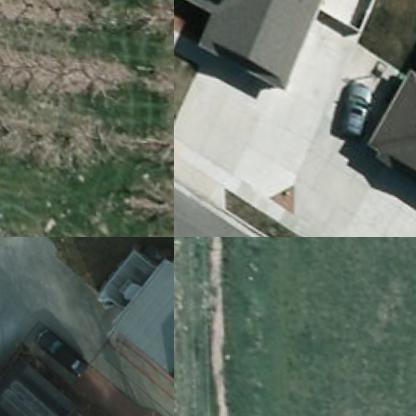car: (28, 328, 88, 380), (335, 70, 372, 138)
